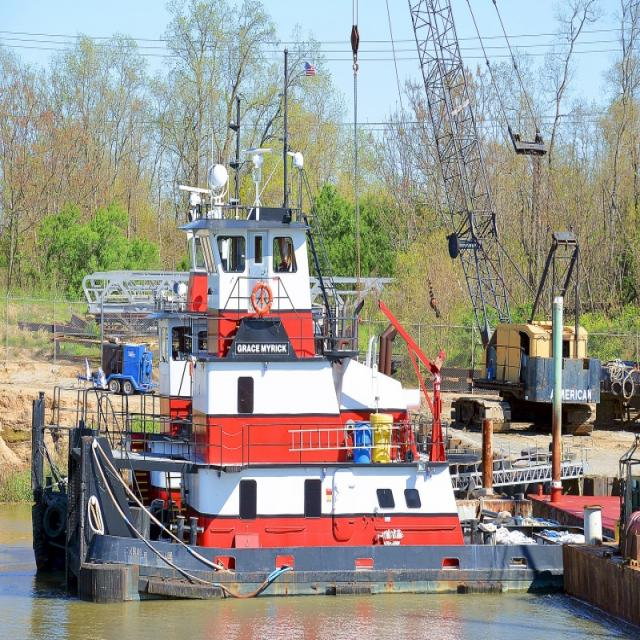tugboat: (26, 141, 571, 606)
